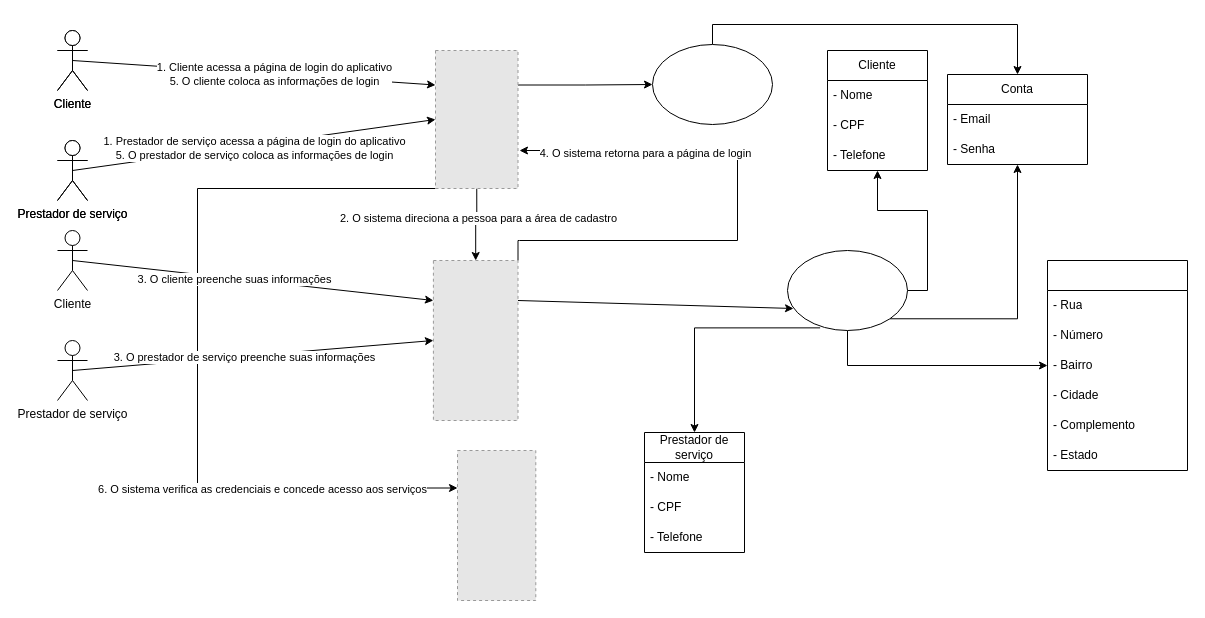
Some shapes in this 1205 by 618 pixel diagram are drawn without their labels. Grey dashed boxes stand in for pictures. Each missing label, with the box of its shape:
Endereço: (1046, 260, 1188, 470)
UC-01: Realizar cadastro: (786, 250, 908, 330)
UC-02: Realizar login: (652, 44, 772, 124)
